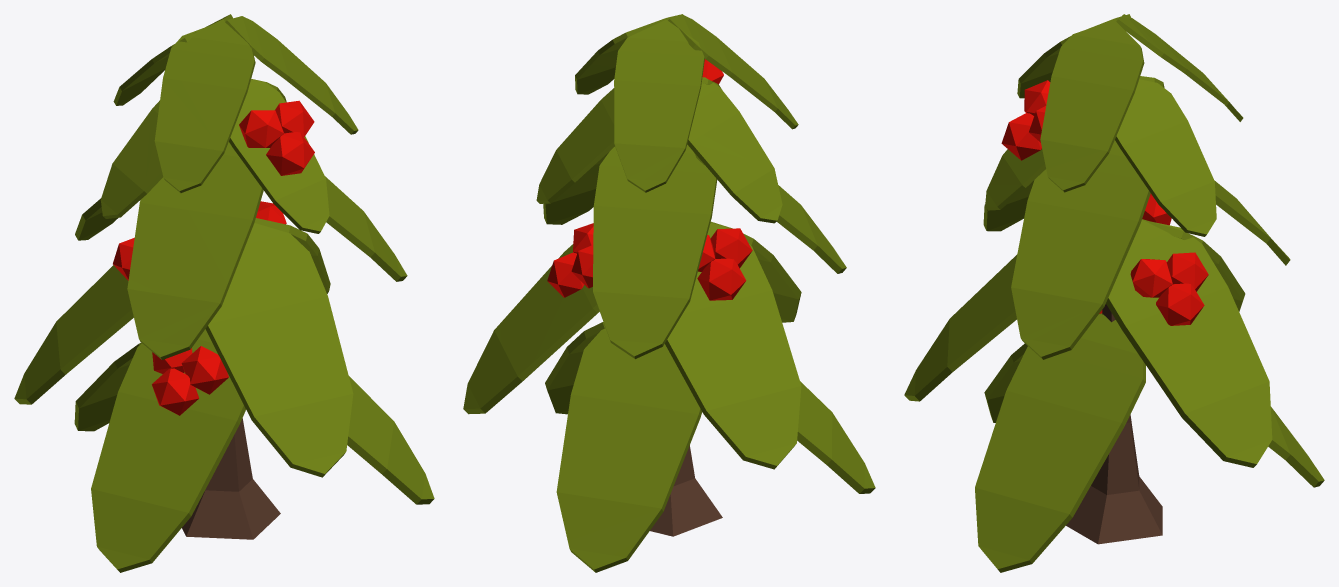
Rendered from Berries.fbx.
3 views of the same model, side by side, from view 1: azimuth 30°, elevation 25°; view 2: azimuth 150°, elevation 25°; view 3: azimuth 270°, elevation 25° (orthographic).
Parts seen in each view (by area): view 1: Berries; view 2: Berries; view 3: Berries.
Part boxes in pixels (x1,y1,x2,y2): Berries: (14, 14, 434, 572); Berries: (463, 14, 875, 572); Berries: (904, 14, 1324, 572).
Size of the model in its own units: 0.6949 by 0.6188 by 0.9149.
